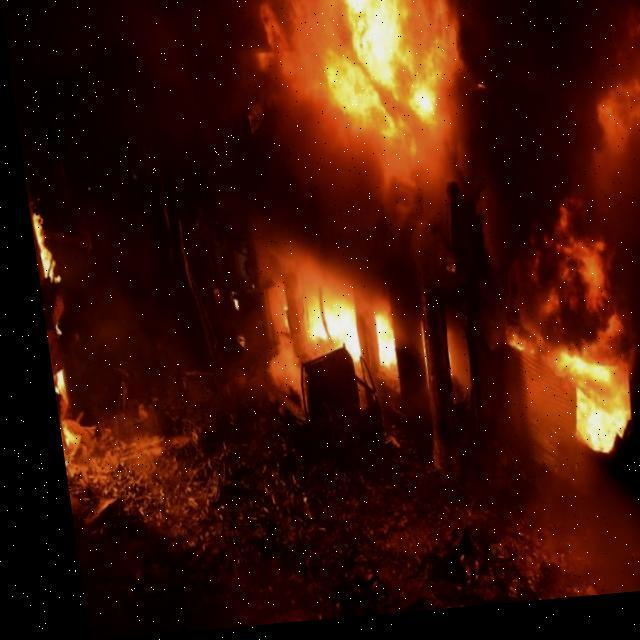Fire: (248, 0, 479, 401), (498, 172, 639, 495), (23, 196, 92, 439)
